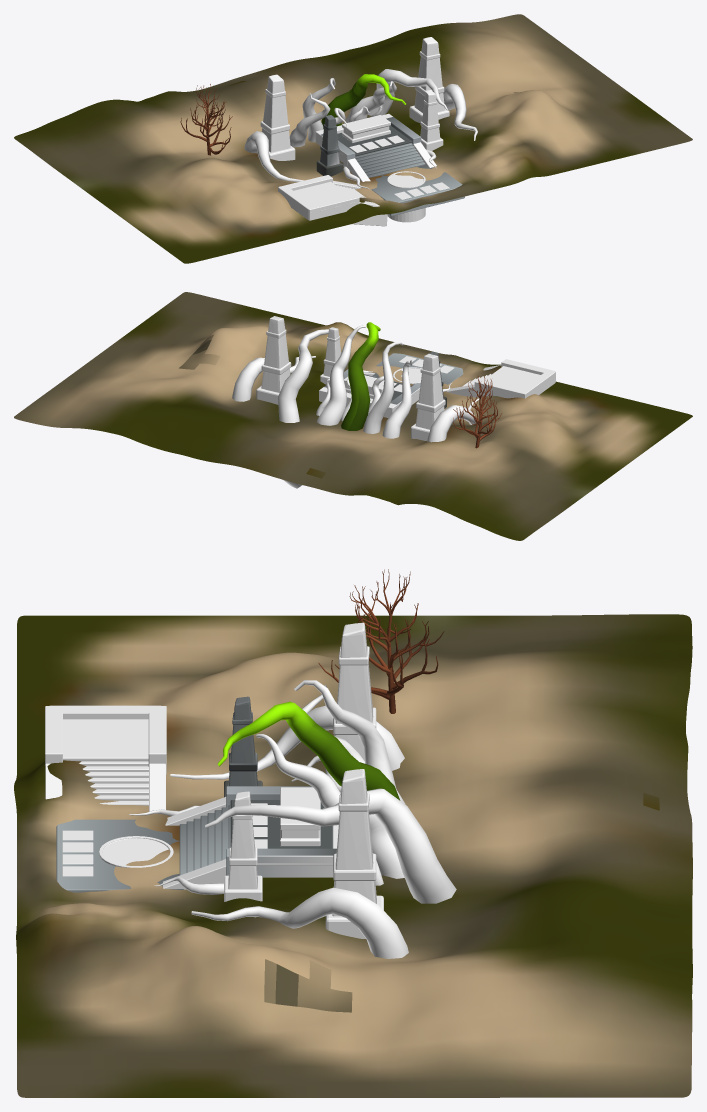
Rendered from board_assets1.fbx.
The picture shows the model from 3 angles, top to bottom: view 1: azimuth 30°, elevation 25°; view 2: azimuth 150°, elevation 25°; view 3: azimuth 270°, elevation 25°; orthographic projection. The views are drawn at different scales.
Visible parts, largest first — view 1: Plane, Plane.011, Cube.019, Plane.002, tree.001, Cube.012, BezierCurve.007, BezierCurve.008, Cube.020, Cylinder.002, Plane.021, BezierCurve.011 (+9 smaller); view 2: Plane, BezierCurve.007, BezierCurve.008, BezierCurve.010, Cube.012, Cube.019, tree.001, BezierCurve, BezierCurve.009, BezierCurve.011, BezierCurve.015, Plane.021 (+4 smaller); view 3: Plane, BezierCurve.008, BezierCurve.015, BezierCurve.007, Plane.002, Plane.021, Cube.012, tree.001, Cube.019, BezierCurve.010, Plane.020, Plane.011 (+13 smaller).
Boxes of the visible parts, x1,y1,x2,y2 form: Plane: [14, 14, 692, 263]; Plane.011: [355, 143, 425, 177]; Cube.019: [261, 74, 290, 152]; Plane.002: [371, 165, 464, 215]; tree.001: [180, 84, 232, 155]; Cube.012: [414, 37, 444, 112]; BezierCurve.007: [321, 74, 406, 129]; BezierCurve.008: [367, 69, 448, 115]; Cube.020: [342, 115, 390, 143]; Cylinder.002: [387, 171, 425, 222]; Plane.021: [294, 181, 357, 213]; BezierCurve.011: [244, 131, 304, 182]; Plane: [14, 292, 692, 540]; BezierCurve.007: [341, 322, 380, 430]; BezierCurve.008: [278, 329, 328, 488]; BezierCurve.010: [316, 325, 365, 425]; Cube.012: [261, 316, 290, 392]; Cube.019: [415, 353, 444, 429]; tree.001: [453, 375, 501, 448]; BezierCurve: [363, 342, 403, 433]; BezierCurve.009: [382, 360, 412, 438]; BezierCurve.011: [427, 398, 479, 442]; BezierCurve.015: [232, 356, 315, 401]; Plane.021: [485, 366, 540, 388]; Plane: [14, 614, 692, 1097]; BezierCurve.008: [205, 788, 456, 903]; BezierCurve.015: [191, 887, 408, 958]; BezierCurve.007: [217, 701, 400, 800]; Plane.002: [56, 819, 183, 892]; Plane.021: [63, 719, 148, 761]; Cube.012: [332, 769, 376, 916]; tree.001: [318, 569, 444, 713]; Cube.019: [334, 622, 373, 760]; BezierCurve.010: [256, 734, 404, 878]; Plane.020: [79, 761, 148, 805]; Plane.011: [179, 804, 230, 875].
Size of the model in its own units: 12982 by 3561 by 7725.
